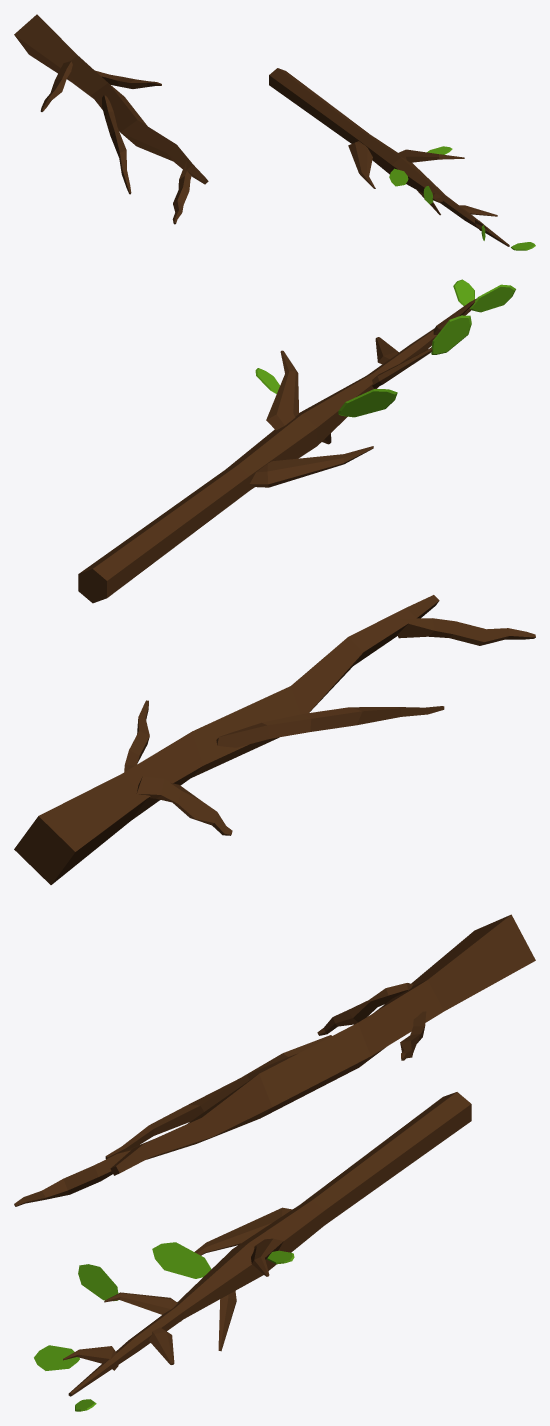
The model's file is Chapter1-Level1-items.fbx.
3 views of the same model, one above another, from view 1: azimuth 30°, elevation 25°; view 2: azimuth 150°, elevation 25°; view 3: azimuth 330°, elevation 25° (orthographic). The views are drawn at different scales.
Parts seen in each view (by area): view 1: Cube.451, Cylinder.160, Cube.453, Cylinder.155, Cube.452, Cube.450, Cube.454, Cylinder.157; view 2: Cube.451, Cylinder.160, Cube.453, Cube.452, Cylinder.155, Cube.454, Cylinder.157, Plane.011, Plane.008, Cube.450, Plane.007; view 3: Cube.451, Cylinder.160, Cube.453, Cube.452, Plane.011, Cube.454, Cylinder.155, Plane.008, Plane.007, Cylinder.158, Cylinder.157, Cylinder.156 (+3 smaller).
Part boxes in pixels (x1,y1,x2,y2): Cube.451: (14,14,208,184); Cylinder.160: (269,68,509,246); Cube.453: (102,95,131,194); Cylinder.155: (348,141,375,188); Cube.452: (172,161,191,224); Cube.450: (95,70,161,88); Cube.454: (40,61,72,111); Cylinder.157: (397,149,464,162); Cube.451: (14,595,439,884); Cylinder.160: (78,308,471,603); Cube.453: (216,706,444,747); Cube.452: (394,618,535,645); Cylinder.155: (250,446,373,487); Cube.454: (136,776,232,835); Cylinder.157: (266,350,299,430); Plane.011: (338,389,397,417); Plane.008: (431,315,471,354); Cube.450: (124,700,149,771); Plane.007: (470,284,515,312); Cube.451: (110,914,535,1175); Cylinder.160: (68,1092,471,1396); Cube.453: (105,1035,331,1159); Cube.452: (14,1139,153,1206); Plane.011: (152,1242,211,1278); Cube.454: (317,983,413,1035); Cylinder.155: (194,1207,292,1255); Plane.008: (78,1264,118,1301); Plane.007: (34,1345,79,1370); Cylinder.158: (104,1292,181,1321); Cylinder.157: (251,1238,283,1276); Cylinder.156: (218,1291,236,1351).
Bounding box in the file's own units: 782 × 291 × 2292.
